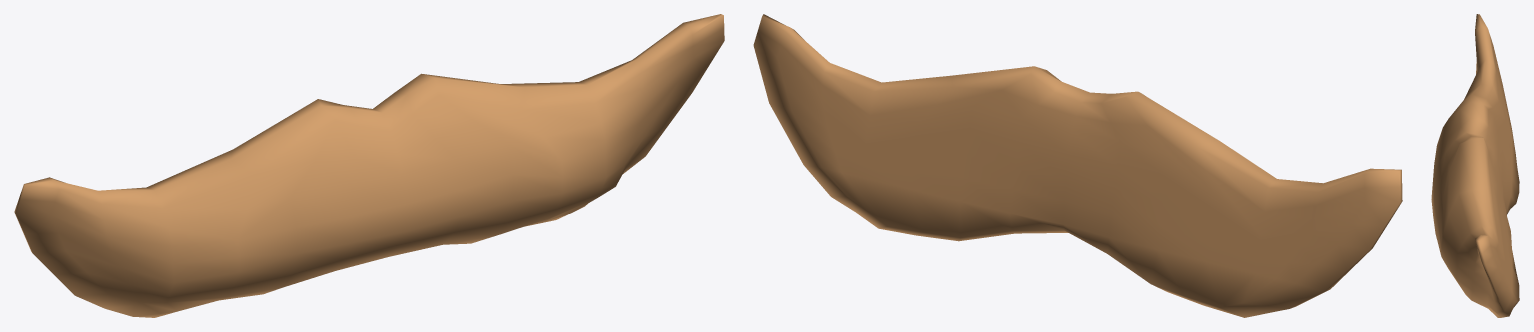
Rendered from mustache1.glb.
3 renders of one model, left to right at view 1: azimuth 30°, elevation 25°; view 2: azimuth 150°, elevation 25°; view 3: azimuth 270°, elevation 25°, orthographic. The views are drawn at different scales.
Parts seen in each view (by area): view 1: Mustache; view 2: Mustache; view 3: Mustache.
Part boxes in pixels (x1,y1,x2,y2): Mustache: (14,14,724,317); Mustache: (753,14,1402,317); Mustache: (1431,14,1519,317).
Size of the model in its own units: 203 by 52.96 by 32.5.
